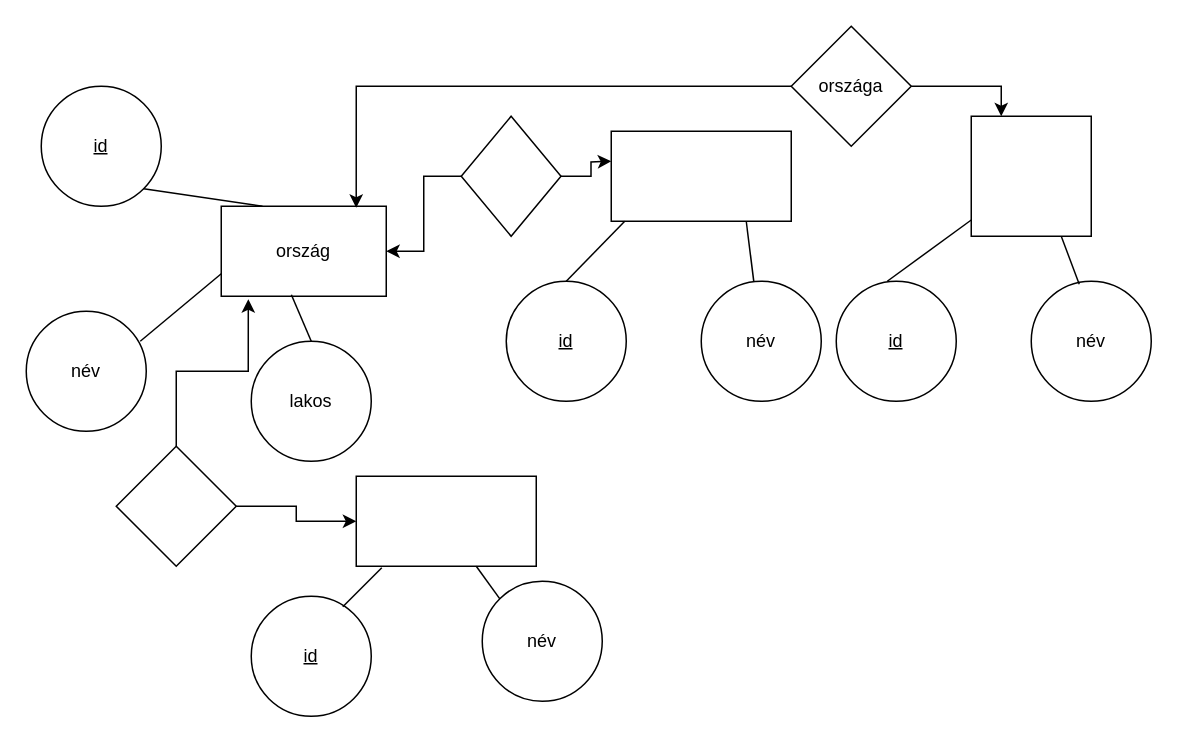
Image size: 1178x743. Some labels were removed from this diagram. The shapes that lost their labels are listed below. From the top down, each one's centre as x and y in pixels, then its label:
pixel 510 175: pénze
pixel 700 175: pénz
pixel 1030 175: kontinens
pixel 175 505: nyelve
pixel 445 520: nyelv
